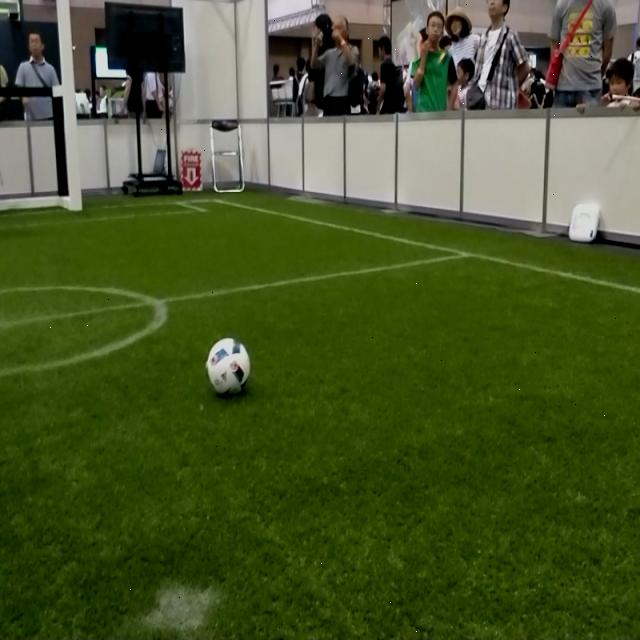ball: (206, 337, 252, 399)
goalpost: (56, 6, 83, 212)
